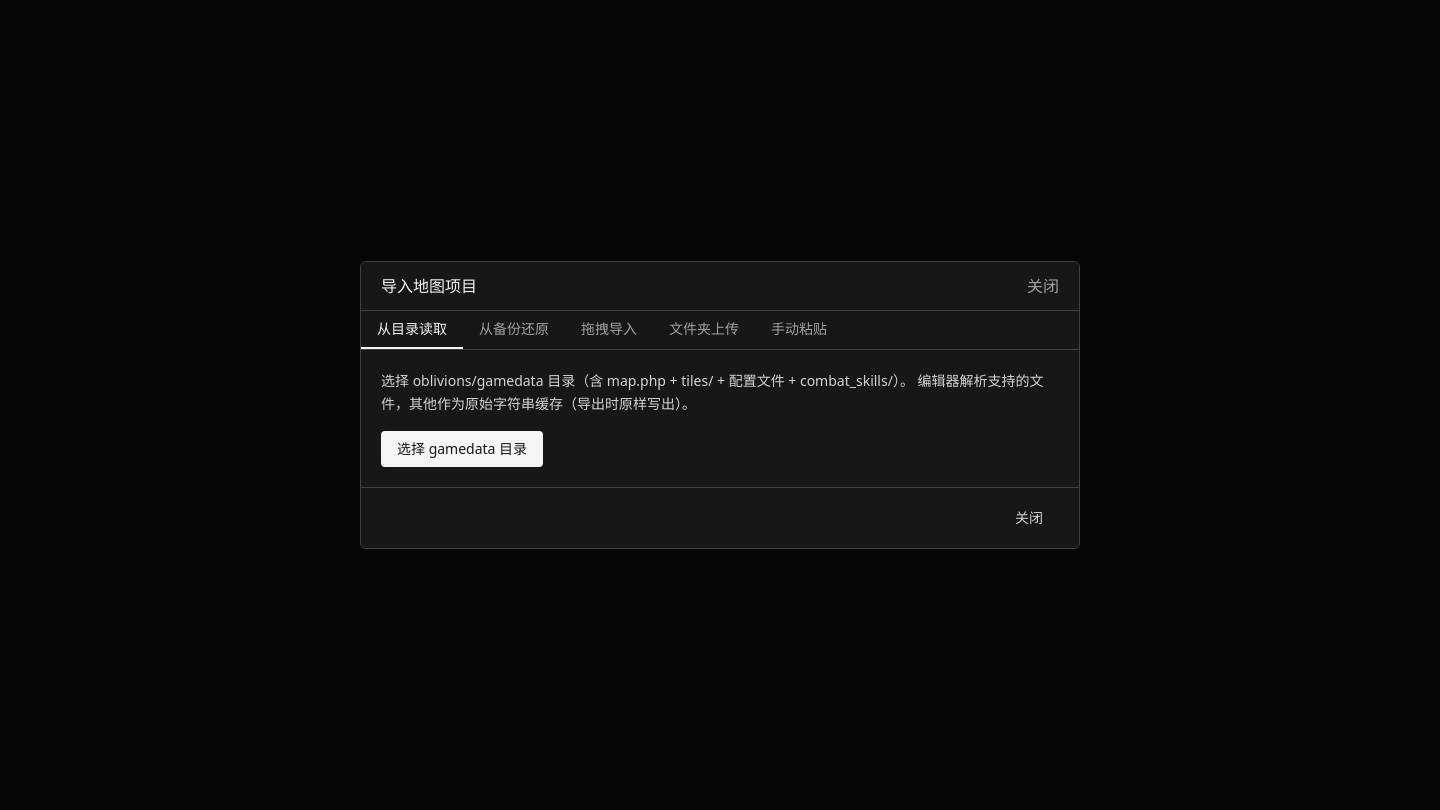
it: ImportModal › 点击 paste Tab 切换
The width and height of the screenshot is (1440, 810).
Click the button "手动粘贴". click: click(799, 330)
box: [755,311,843,349]
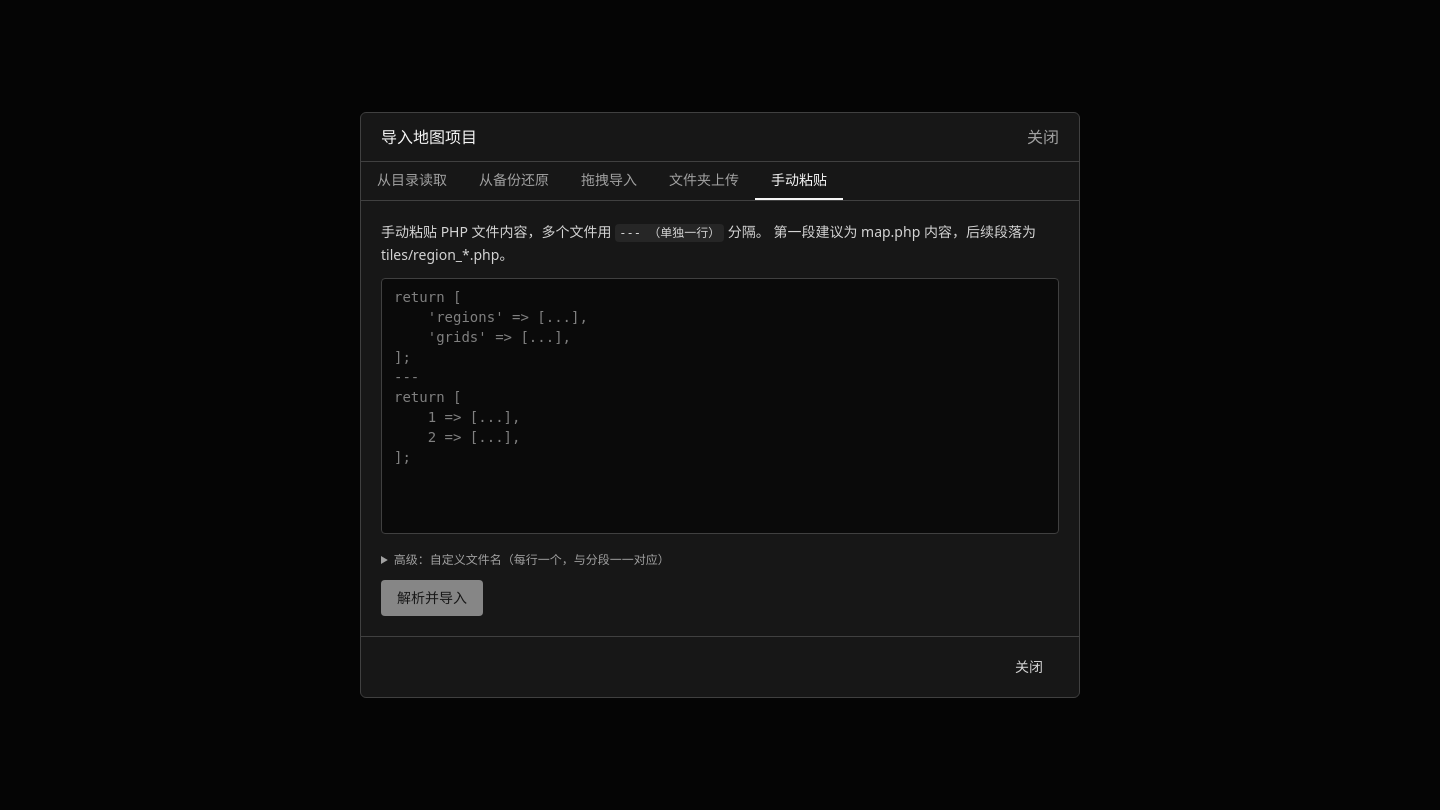
Check: the text box is shown, box [381,278,1059,534]
